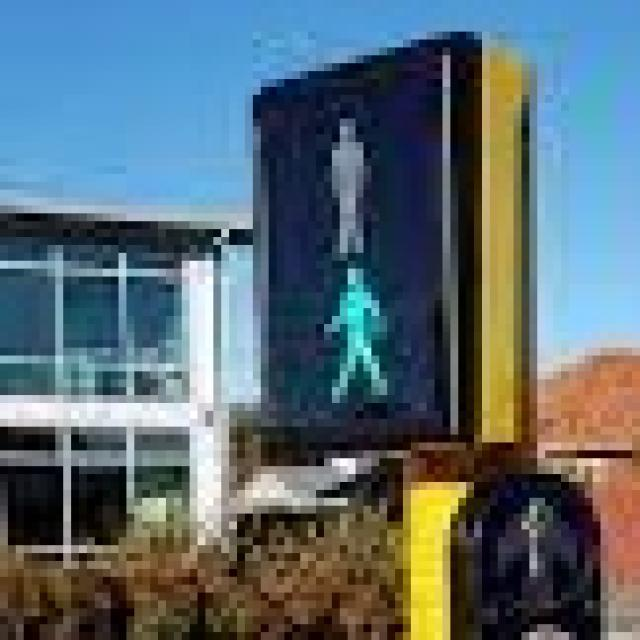green_light: (276, 261, 411, 411)
